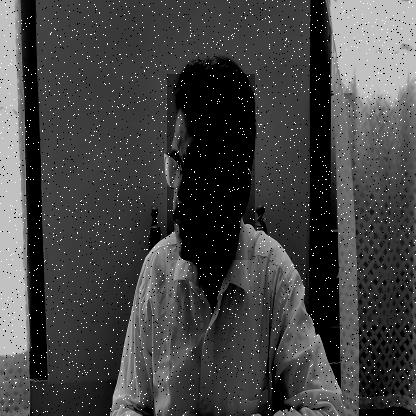Distracted: (167, 74, 255, 260)
